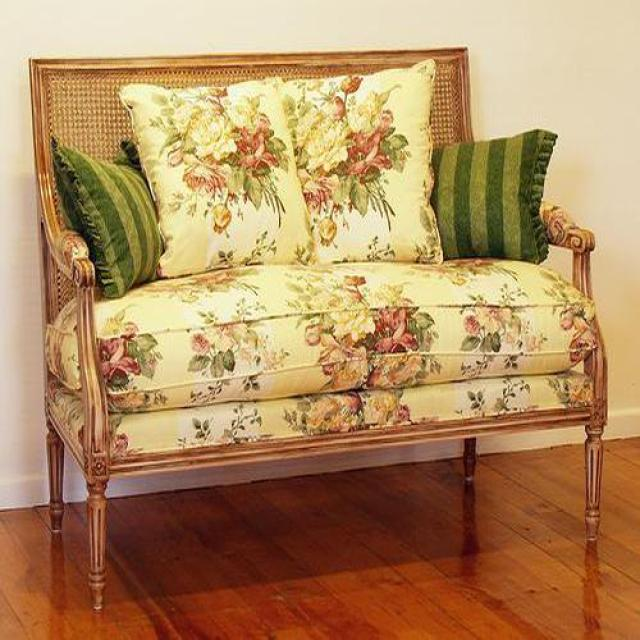sofa: (29, 47, 609, 640)
